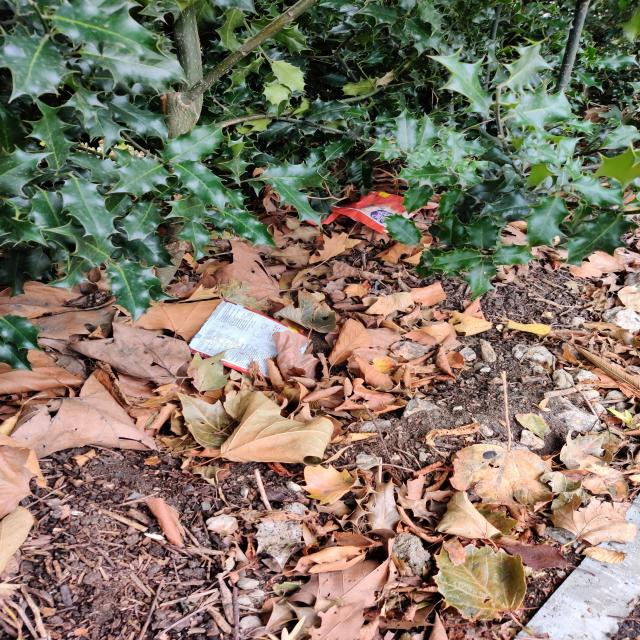litter: (171, 290, 364, 412), (301, 170, 475, 260)
